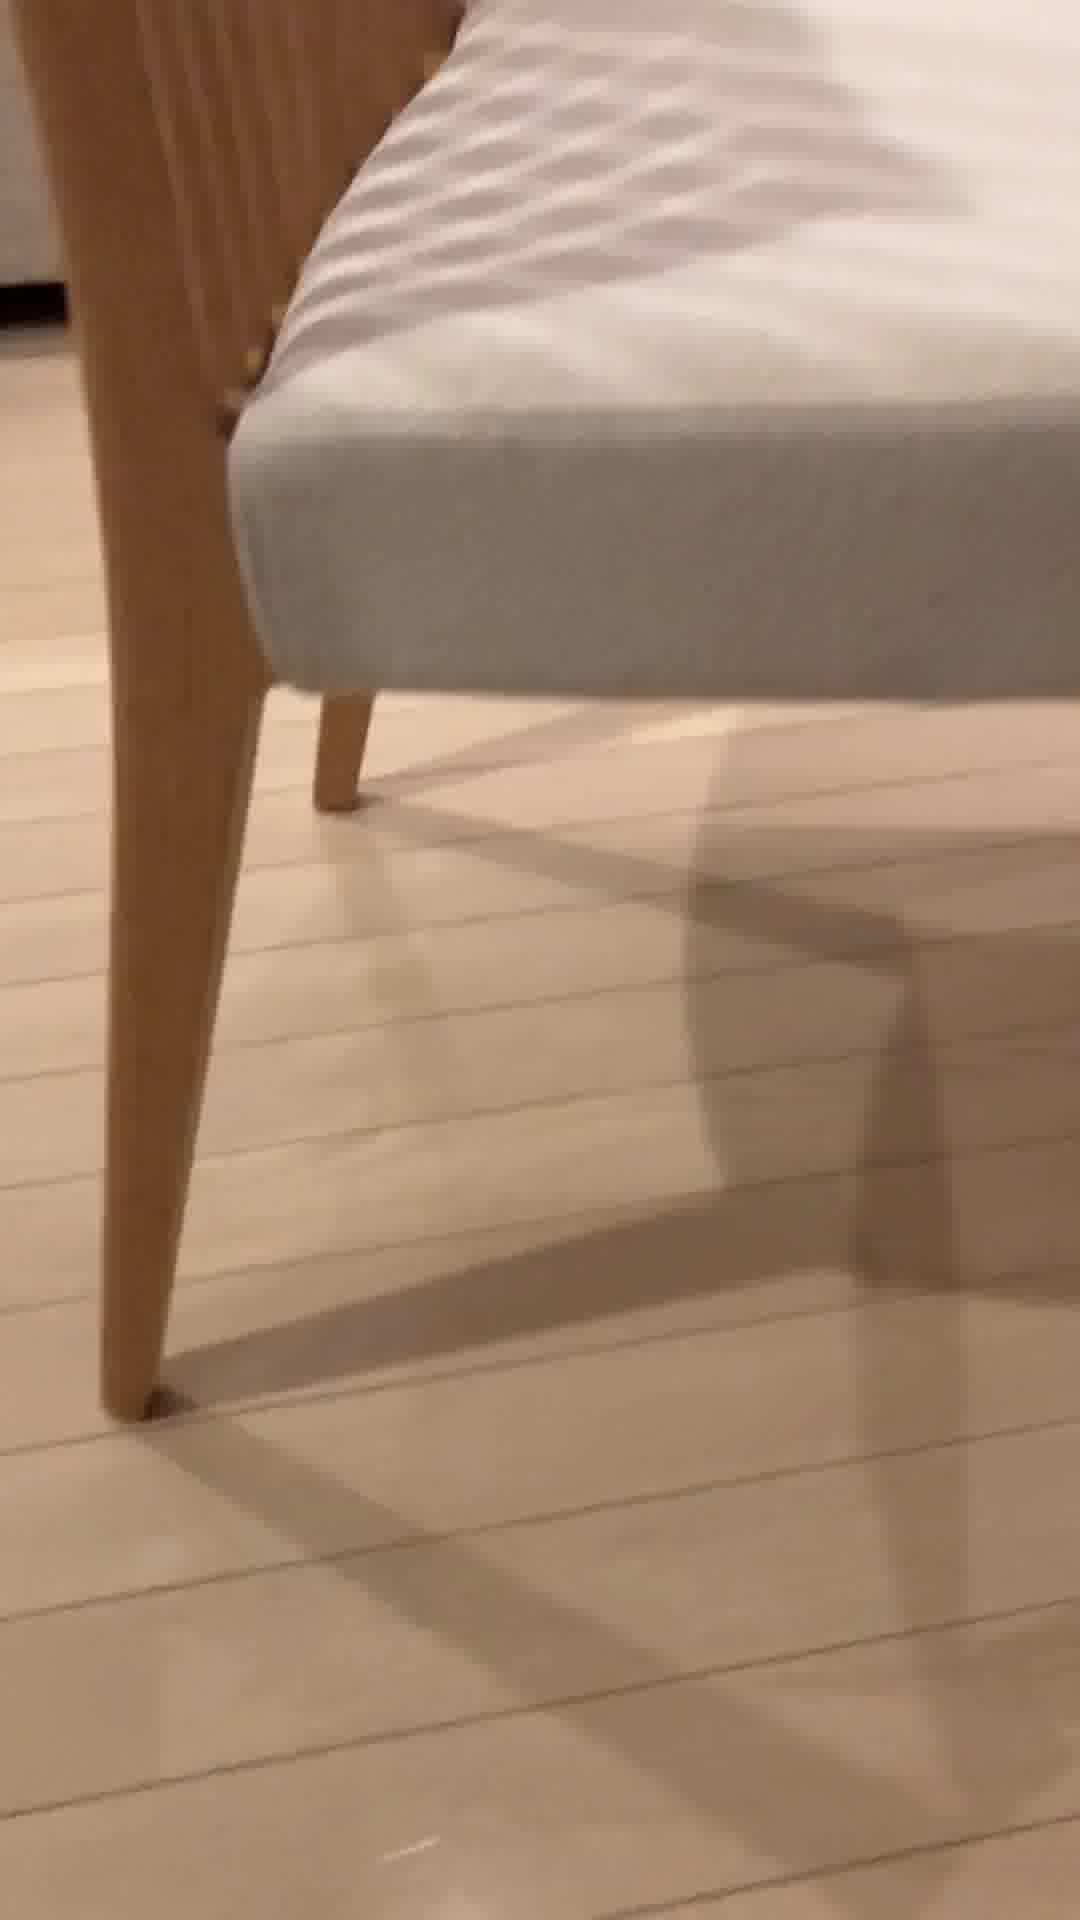takumikan-chair: (0, 0, 1080, 1435)
